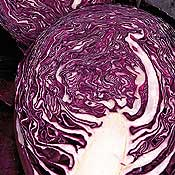cabbage: (15, 5, 174, 174), (0, 0, 111, 49)
